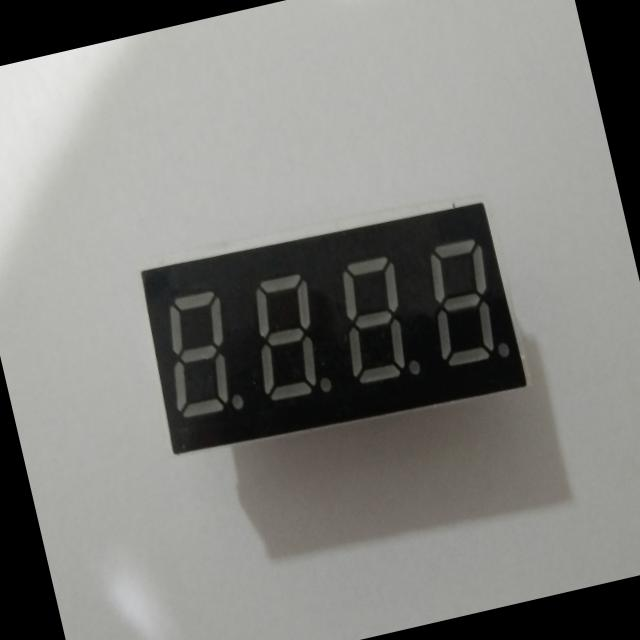7_segments_4_digits: (122, 179, 536, 475)
